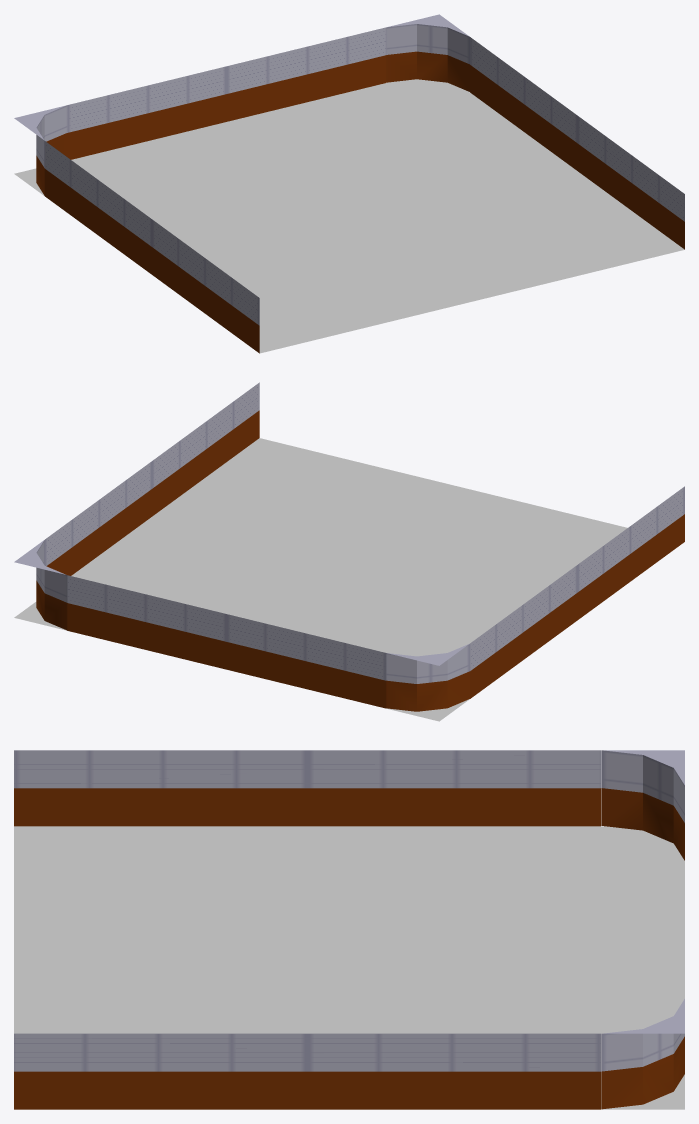
Rendered from water_2a.dae.
The picture shows the model from 3 angles, top to bottom: view 1: azimuth 30°, elevation 25°; view 2: azimuth 150°, elevation 25°; view 3: azimuth 270°, elevation 25°; orthographic projection. The views are drawn at different scales.
Parts seen in each view (by area): view 1: Regroup01, Regroup11, Regroup12, Regroup06; view 2: Regroup01, Regroup12, Regroup11, Regroup06; view 3: Regroup01, Regroup12, Regroup11, Regroup06.
Part boxes in pixels (left/top/right/bottom): Regroup01: left=14, top=79, right=684, bottom=353; Regroup11: left=36, top=24, right=684, bottom=325; Regroup12: left=36, top=51, right=684, bottom=353; Regroup06: left=14, top=14, right=468, bottom=140; Regroup01: left=14, top=438, right=627, bottom=721; Regroup12: left=36, top=410, right=684, bottom=711; Regroup11: left=36, top=382, right=684, bottom=683; Regroup06: left=14, top=540, right=468, bottom=665; Regroup01: left=14, top=826, right=684, bottom=1109; Regroup12: left=14, top=788, right=684, bottom=1109; Regroup11: left=14, top=750, right=684, bottom=1071; Regroup06: left=604, top=750, right=684, bottom=1033.
Size of the model in its own units: 16 by 2 by 16.
